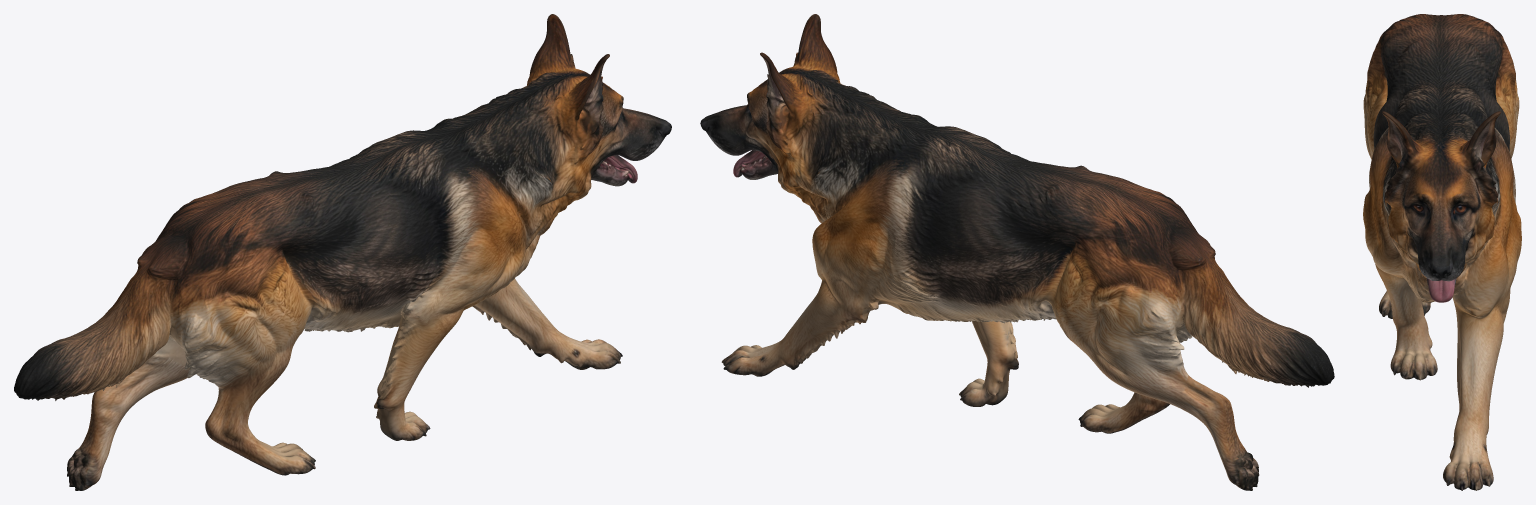
The model's file is 1788458539984_german_shepherd_dog_3d_model_free__1_.glb.
3 renders of one model, left to right at view 1: azimuth 30°, elevation 25°; view 2: azimuth 150°, elevation 25°; view 3: azimuth 270°, elevation 25°, orthographic. The views are drawn at different scales.
Parts seen in each view (by area): view 1: Object_6, Object_5, Object_4, Object_7; view 2: Object_4, Object_5, Object_6, Object_7; view 3: Object_4, Object_6, Object_5, Object_7.
Boxes of the visible parts, <box> form: Object_6: <box>29,62,624,474</box>; Object_5: <box>14,22,671,490</box>; Object_4: <box>33,14,637,486</box>; Object_7: <box>15,98,671,437</box>; Object_4: <box>721,52,1316,490</box>; Object_5: <box>700,14,1332,486</box>; Object_6: <box>742,57,1280,433</box>; Object_7: <box>702,105,1334,405</box>; Object_4: <box>1369,14,1521,490</box>; Object_6: <box>1363,14,1509,380</box>; Object_5: <box>1373,19,1516,486</box>; Object_7: <box>1408,48,1491,340</box>.
Size of the model in its own units: 1 by 0.5062 by 0.2038.
Materials: 1 (1 with a texture image).
